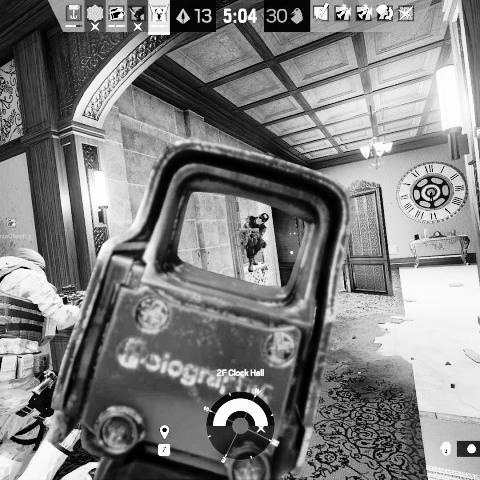Character: (0, 247, 90, 480), (237, 211, 270, 273)
Friend_label: (0, 217, 32, 240)
Head: (10, 248, 45, 267), (256, 212, 268, 225)
